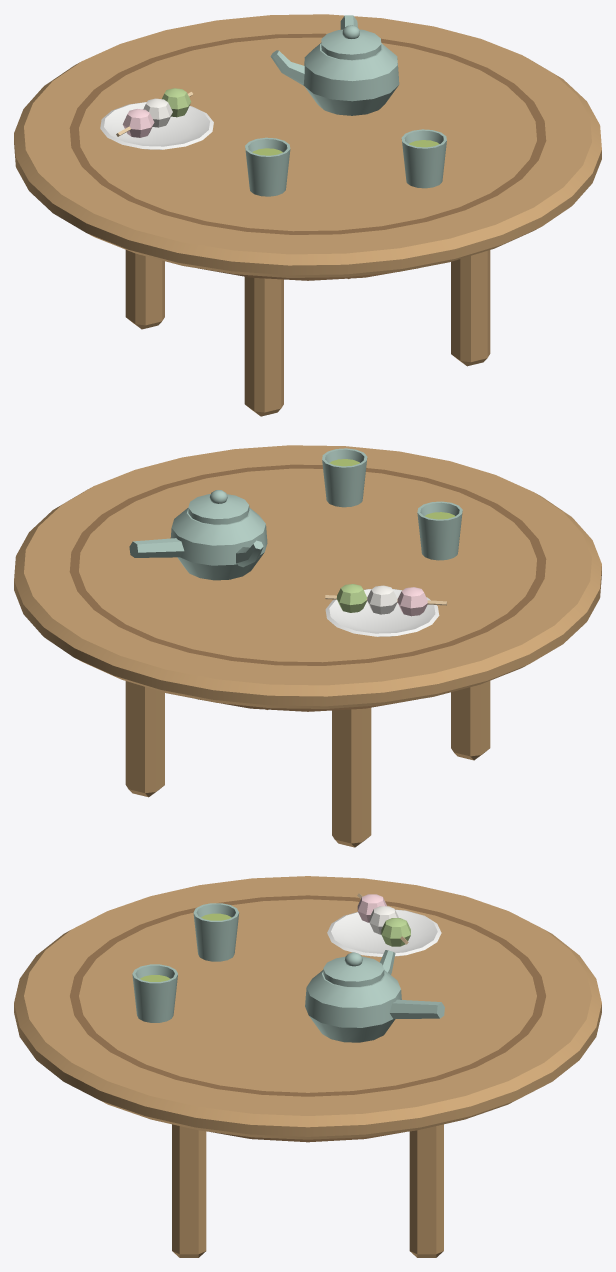
The model's file is furn_chabudai.glb.
The picture shows the model from 3 angles, top to bottom: view 1: azimuth 30°, elevation 25°; view 2: azimuth 150°, elevation 25°; view 3: azimuth 270°, elevation 25°; orthographic projection.
Parts seen in each view (by area): view 1: furn_chabudai_body; view 2: furn_chabudai_body; view 3: furn_chabudai_body.
Part boxes in pixels (bbox=[...]): furn_chabudai_body: bbox=[14, 14, 601, 416]; furn_chabudai_body: bbox=[14, 445, 601, 847]; furn_chabudai_body: bbox=[14, 876, 601, 1257].
Bounding box in the file's own units: 0.77 × 0.4086 × 0.77.
